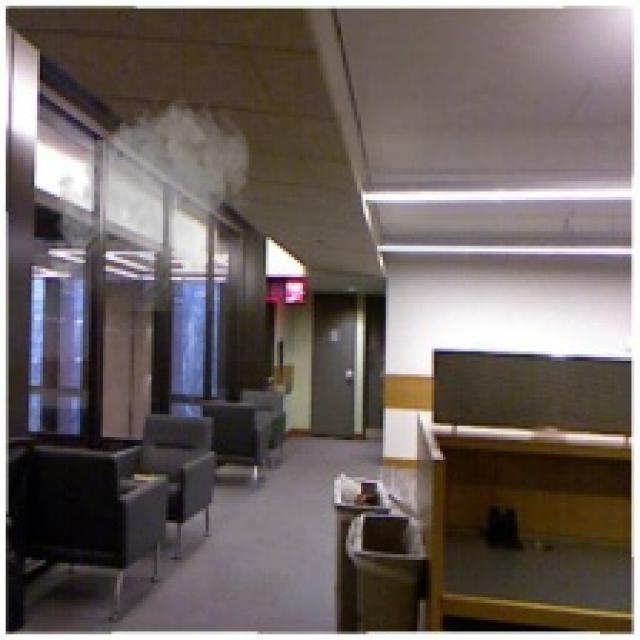smoke: (43, 91, 257, 312)
